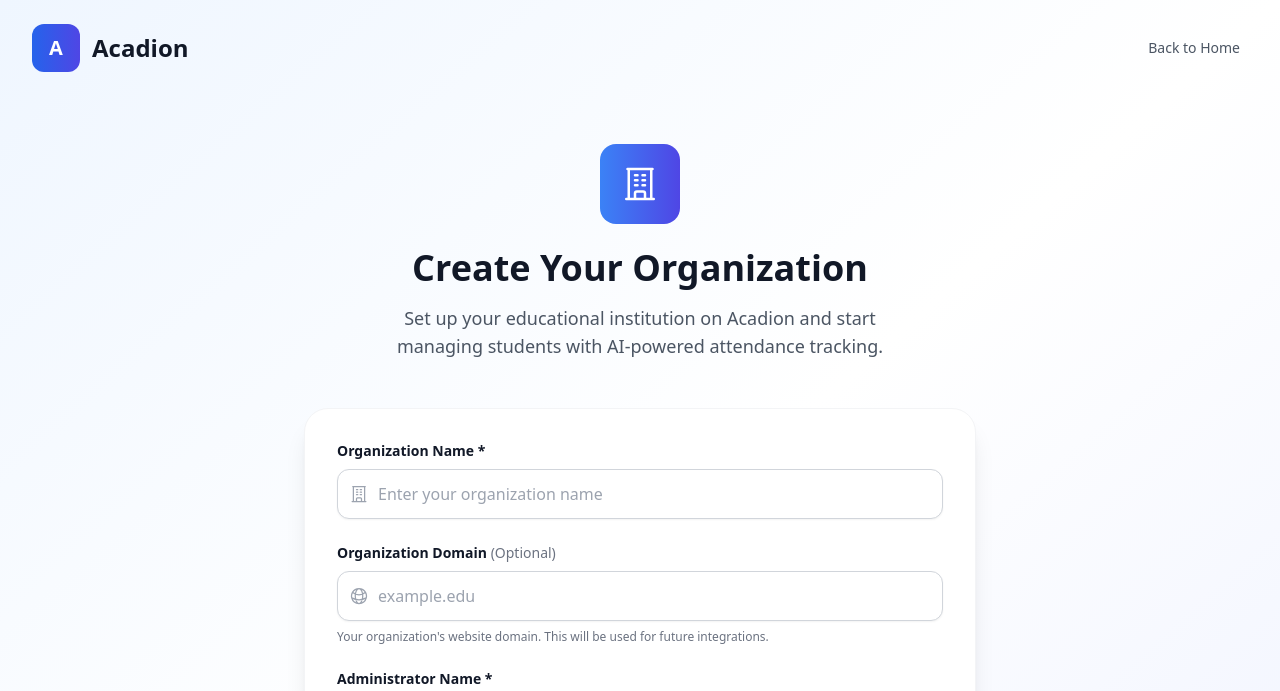
Test: OrganizationOnboarding Accessibility › Screen Reader Support › should provide proper button states and descriptions
Step 1. Type "Test University" into the field labelled "Organization Name *" → (640, 494), box [337, 469, 943, 519]
(page scrolled)
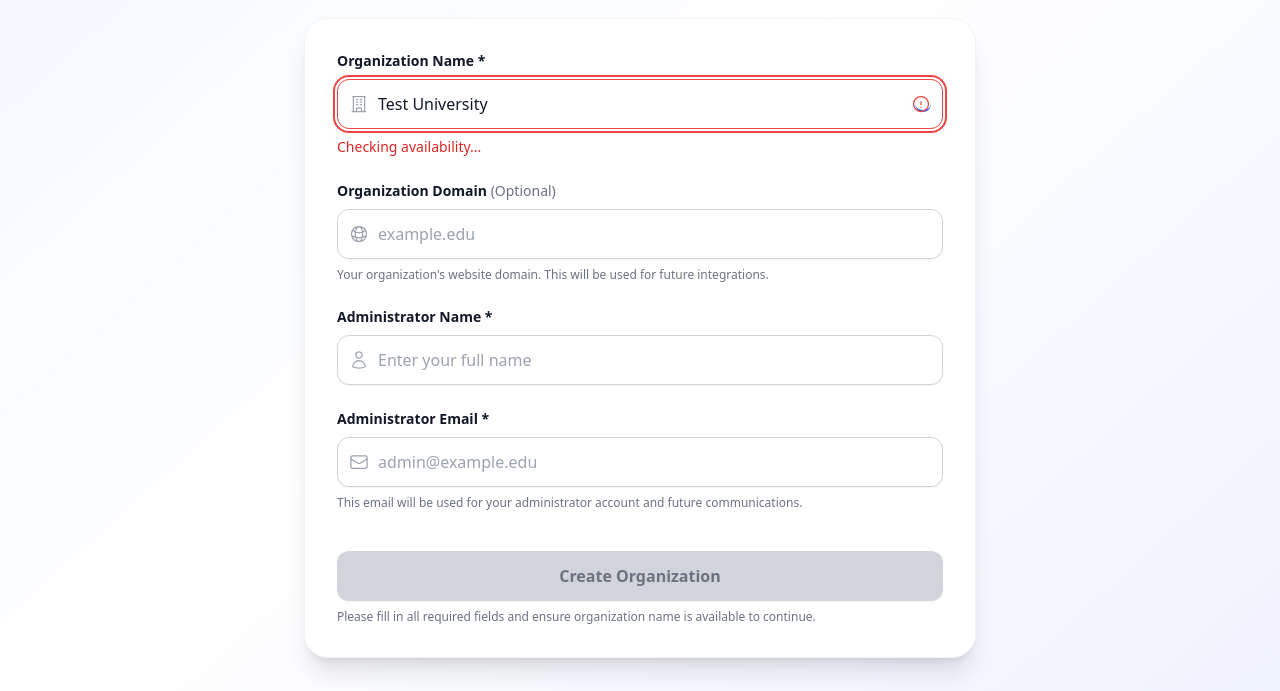
Step 2. Type "John Doe" into the field labelled "Administrator Name *" → (640, 360), box [337, 335, 943, 385]
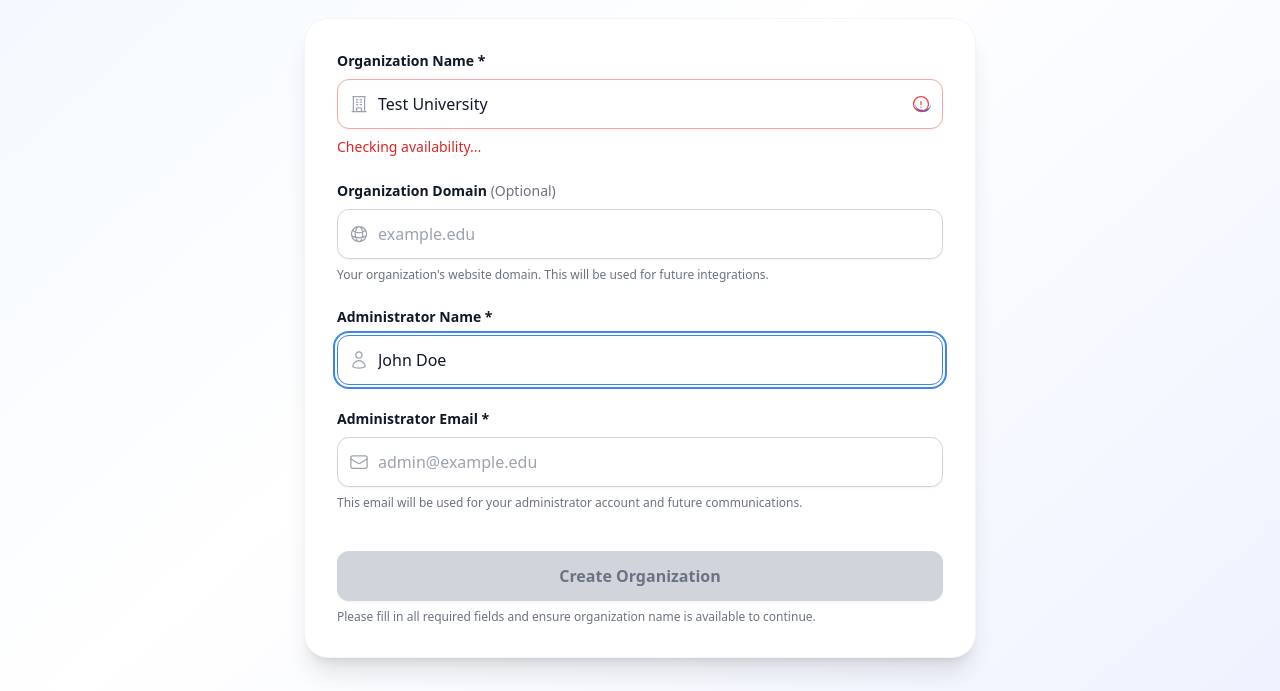
Step 3. Type "john@test.edu" into the field labelled "Administrator Email *" → (640, 462), box [337, 437, 943, 487]
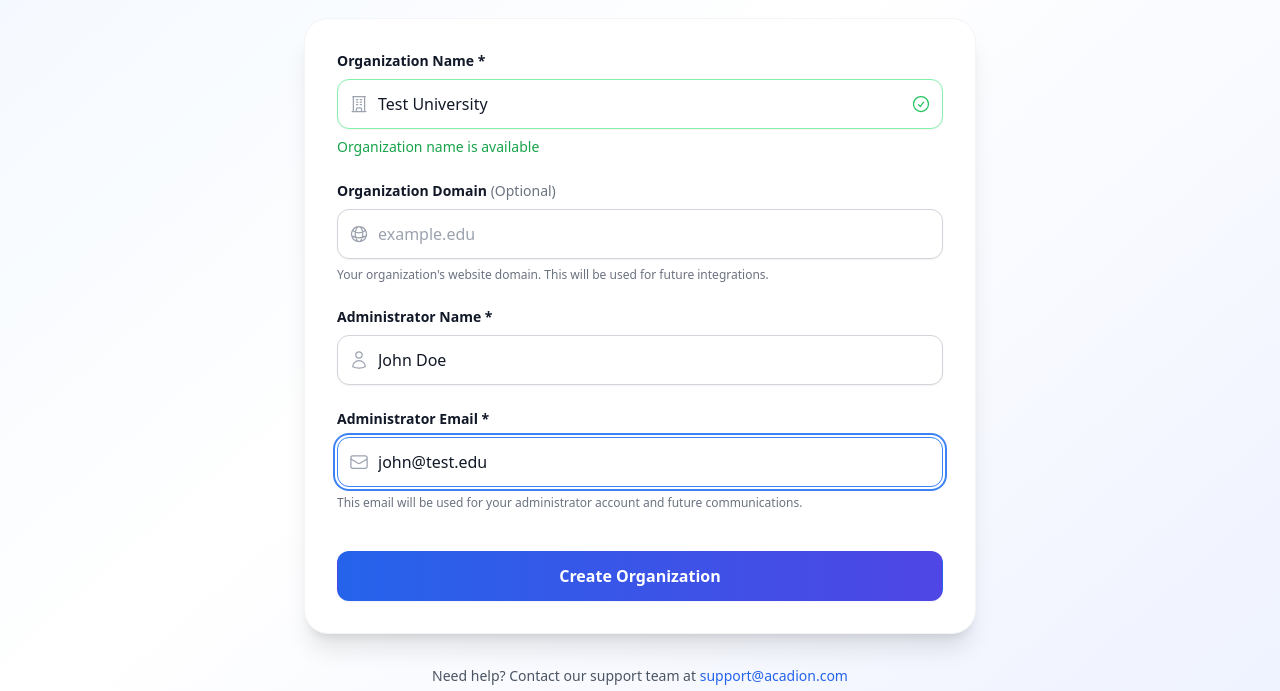
Now the text "Organization name is available" is shown, box [337, 137, 539, 157]
Now the button "Create Organization" is enabled, box [337, 551, 943, 601]
